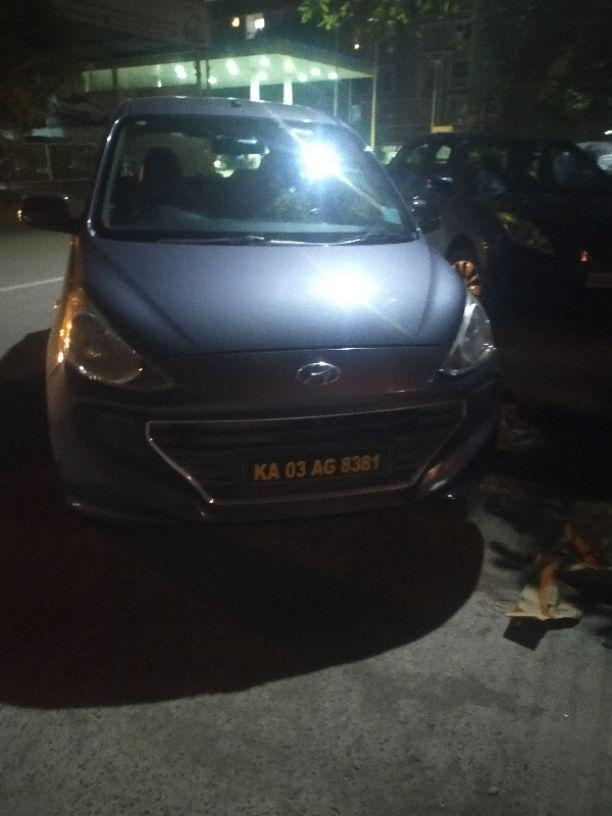license_plate: (238, 447, 389, 486)
